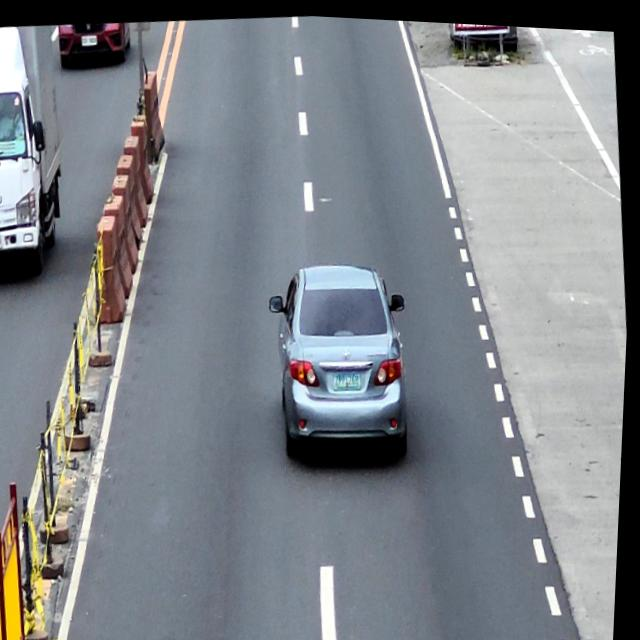Car: (263, 251, 423, 469), (56, 18, 133, 72)
License-Plate: (335, 368, 365, 389), (81, 33, 98, 46), (0, 233, 4, 248)
Truck: (0, 21, 81, 286)
